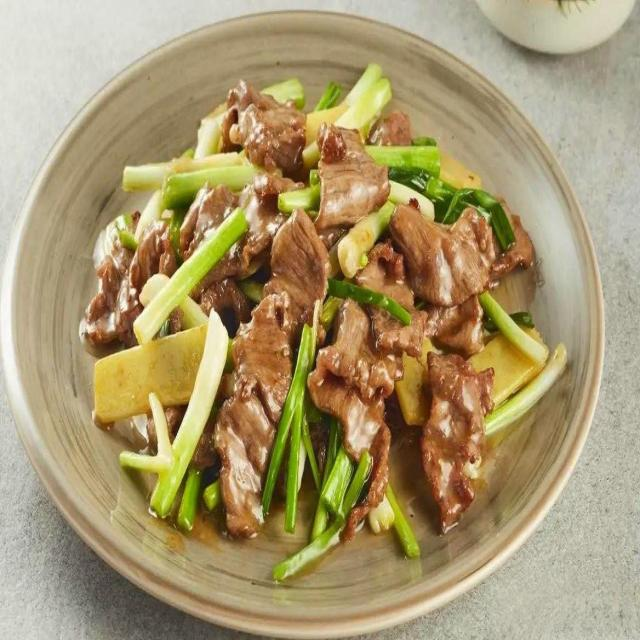bo xao: (81, 67, 565, 582)
